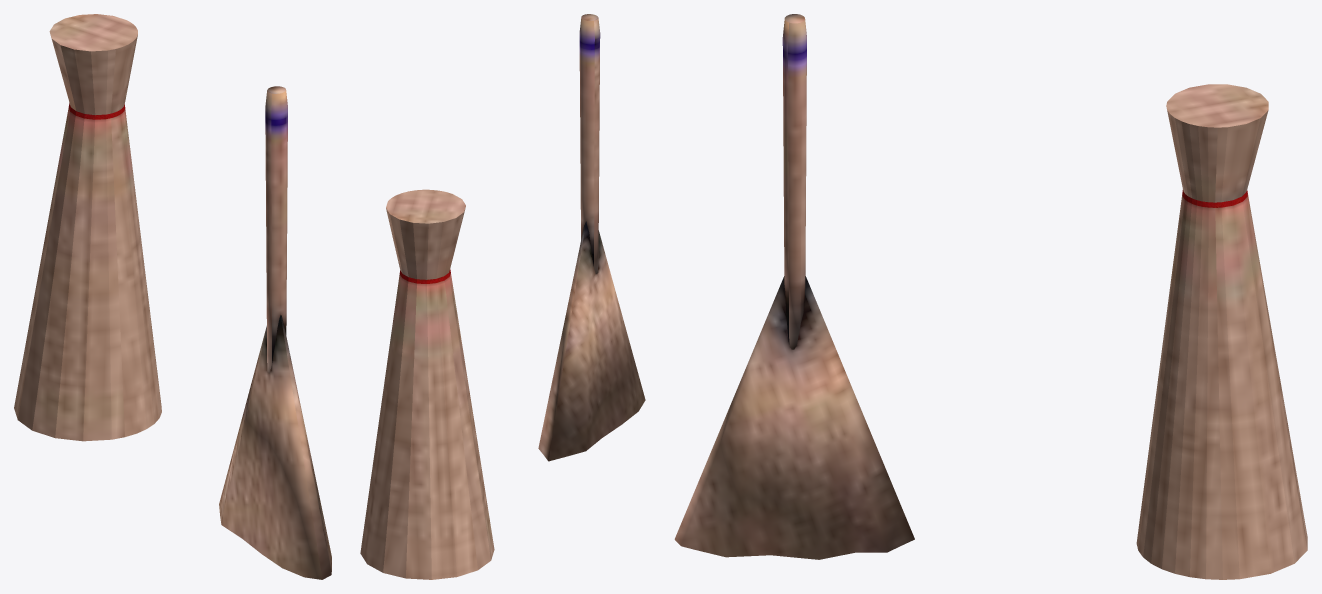
The model's file is broom stick.fbx.
3 views of the same model, side by side, from view 1: azimuth 30°, elevation 25°; view 2: azimuth 150°, elevation 25°; view 3: azimuth 270°, elevation 25° (orthographic). The views are drawn at different scales.
Parts seen in each view (by area): view 1: broom stick, broom stick1; view 2: broom stick, broom stick1; view 3: broom stick, broom stick1.
Part boxes in pixels (x1,y1,x2,y2): broom stick: [14, 14, 161, 441]; broom stick1: [219, 86, 331, 579]; broom stick: [360, 189, 494, 579]; broom stick1: [538, 14, 645, 461]; broom stick: [1136, 84, 1307, 579]; broom stick1: [674, 14, 914, 559].
Size of the model in its own units: 70.95 by 242 by 263.
